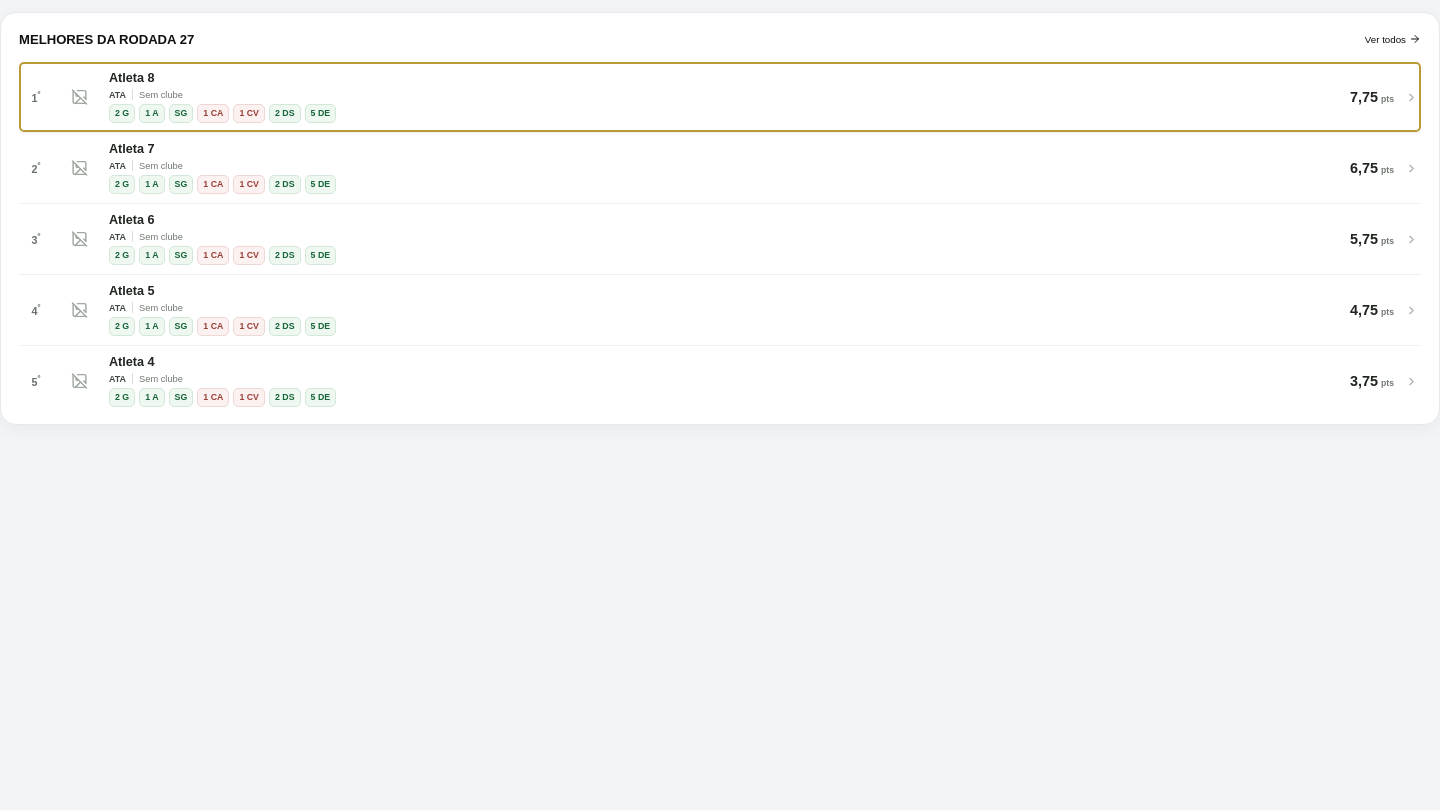
ordena os cinco destaques, usa scouts textuais e compartilha o painel acessível
Expected: the 1st text "2 G" is shown, [109,104,135,123]
Expected: the 1st text "1 A" is shown, [139,104,165,123]
Click the button with aria-label "Ver detalhes de" at (132, 78), box [19,62,1421,132]
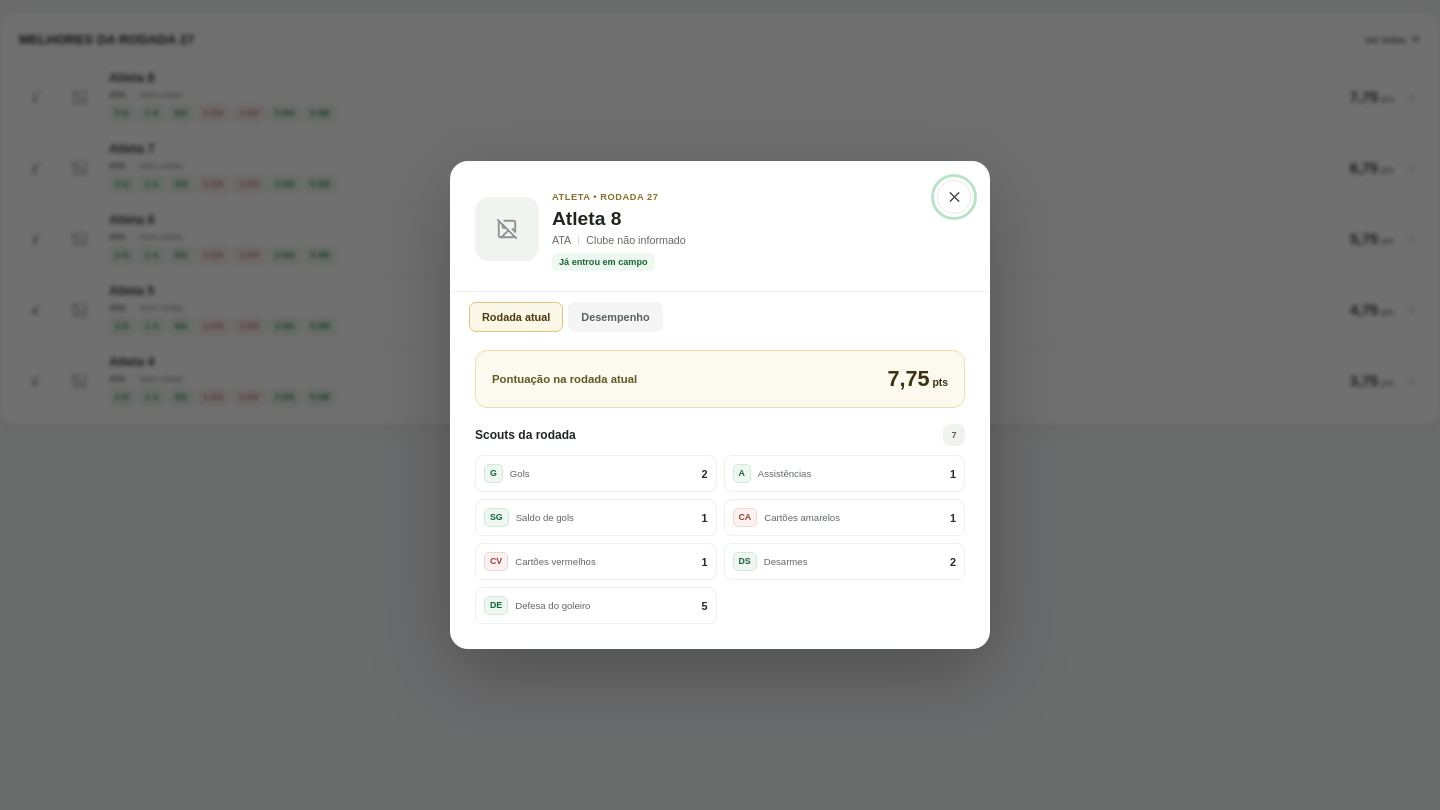
Now the text "Atleta • Rodada 27" is shown, box [552,192,658,202]
Now the text "7,75" is shown, box [888,366,930,391]
Now the text "CA" is shown, box [732,508,757,527]
Press Escape
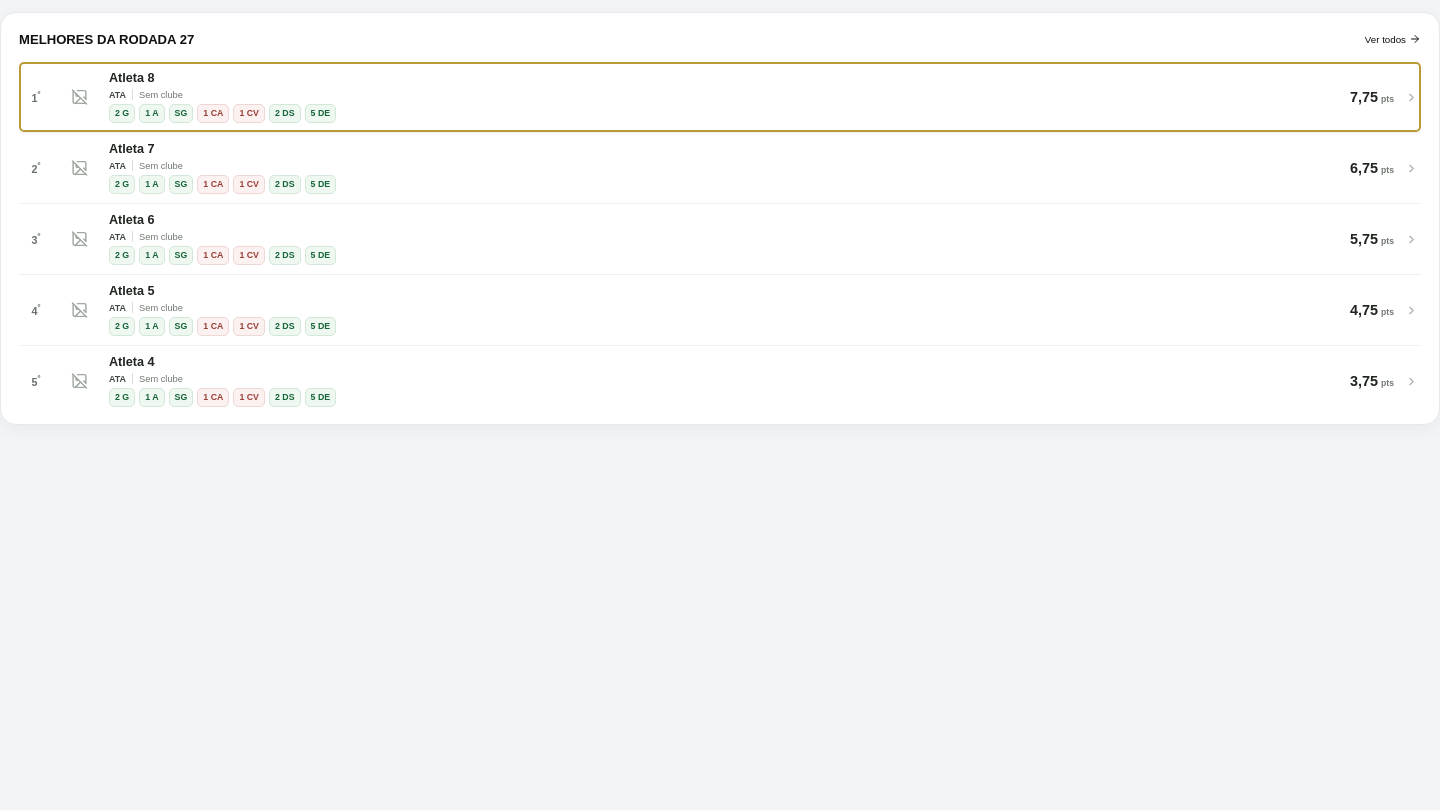
Now the dialog is gone
Click the button with aria-label "Ver detalhes de" at (132, 149), box [19,133,1421,203]
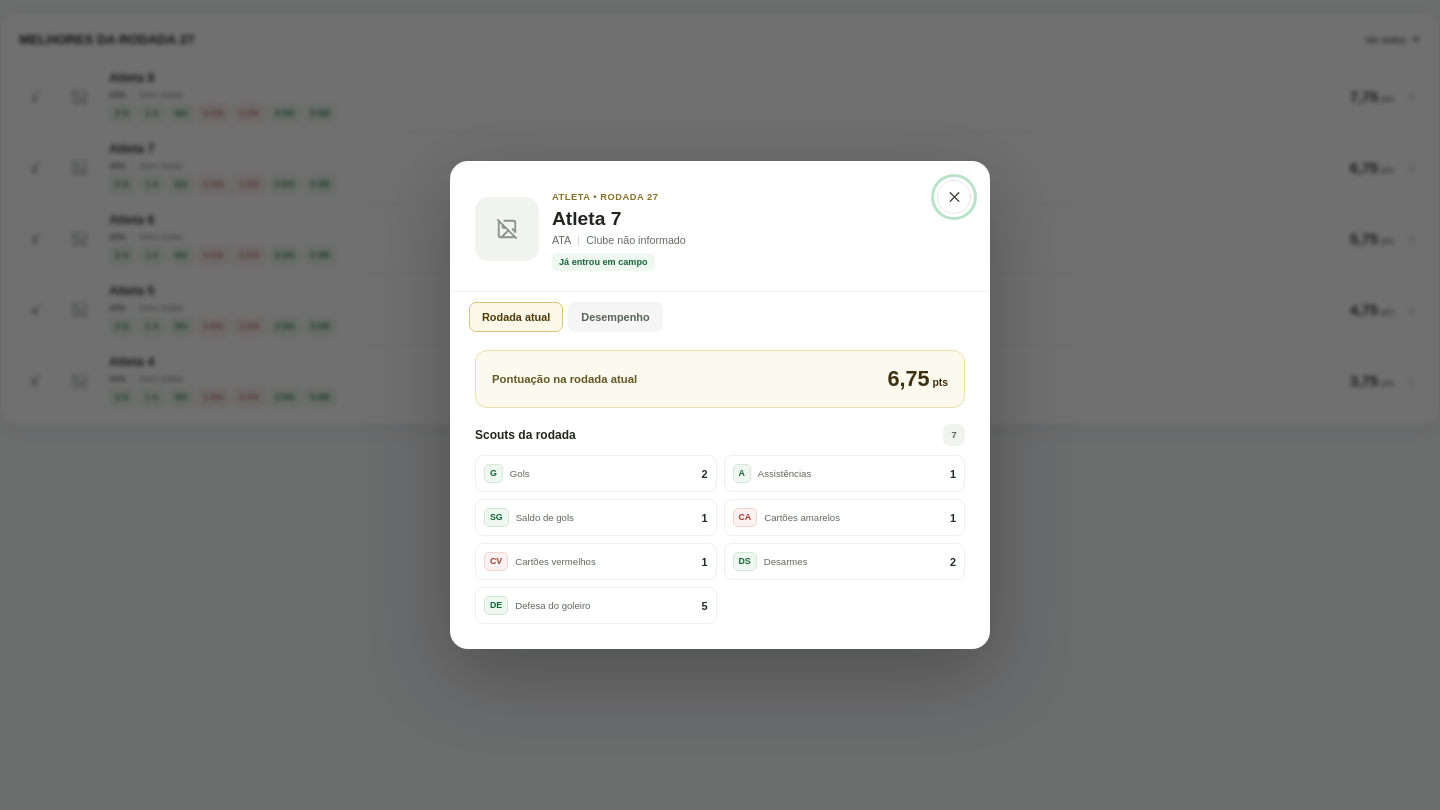
Click the button named "Fechar detalhes" at (954, 197), box [937,180,971,214]
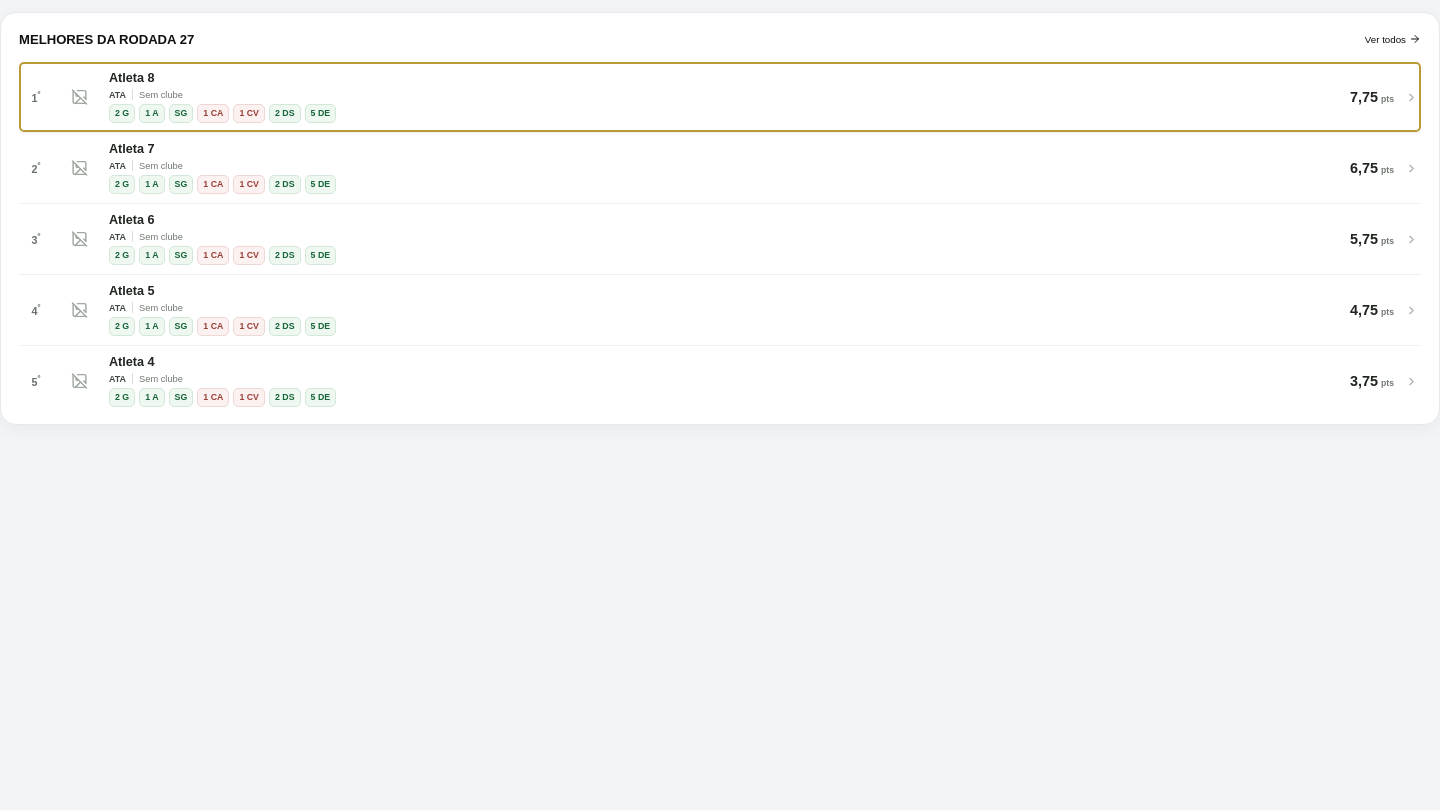
Now the dialog is gone
Click the button with aria-label "Ver detalhes de" at (132, 220), box [19,204,1421,274]
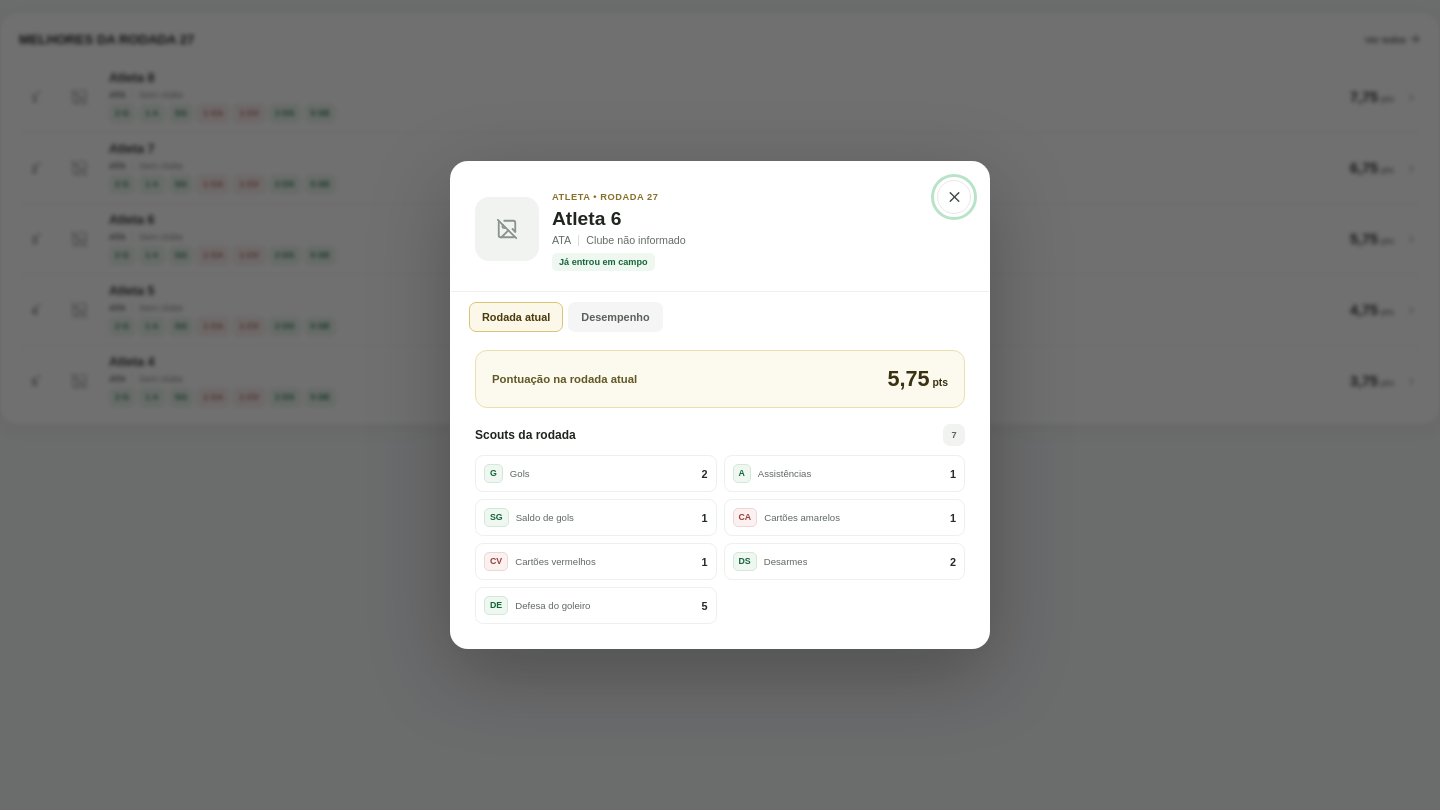
Press the mouse on the element that starts with "Atleta" at (720, 405), box [0,0,1439,809]
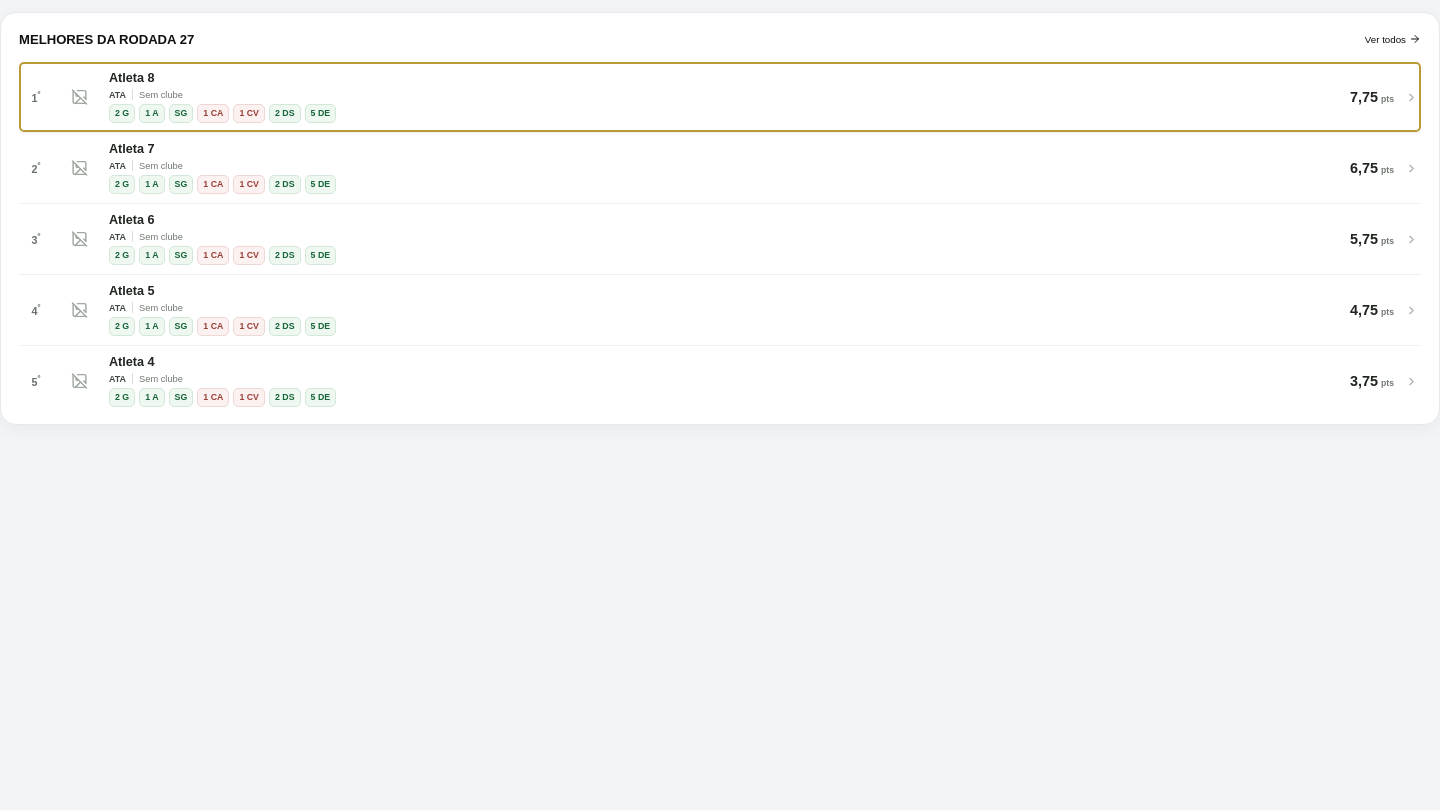
Now the dialog is gone
